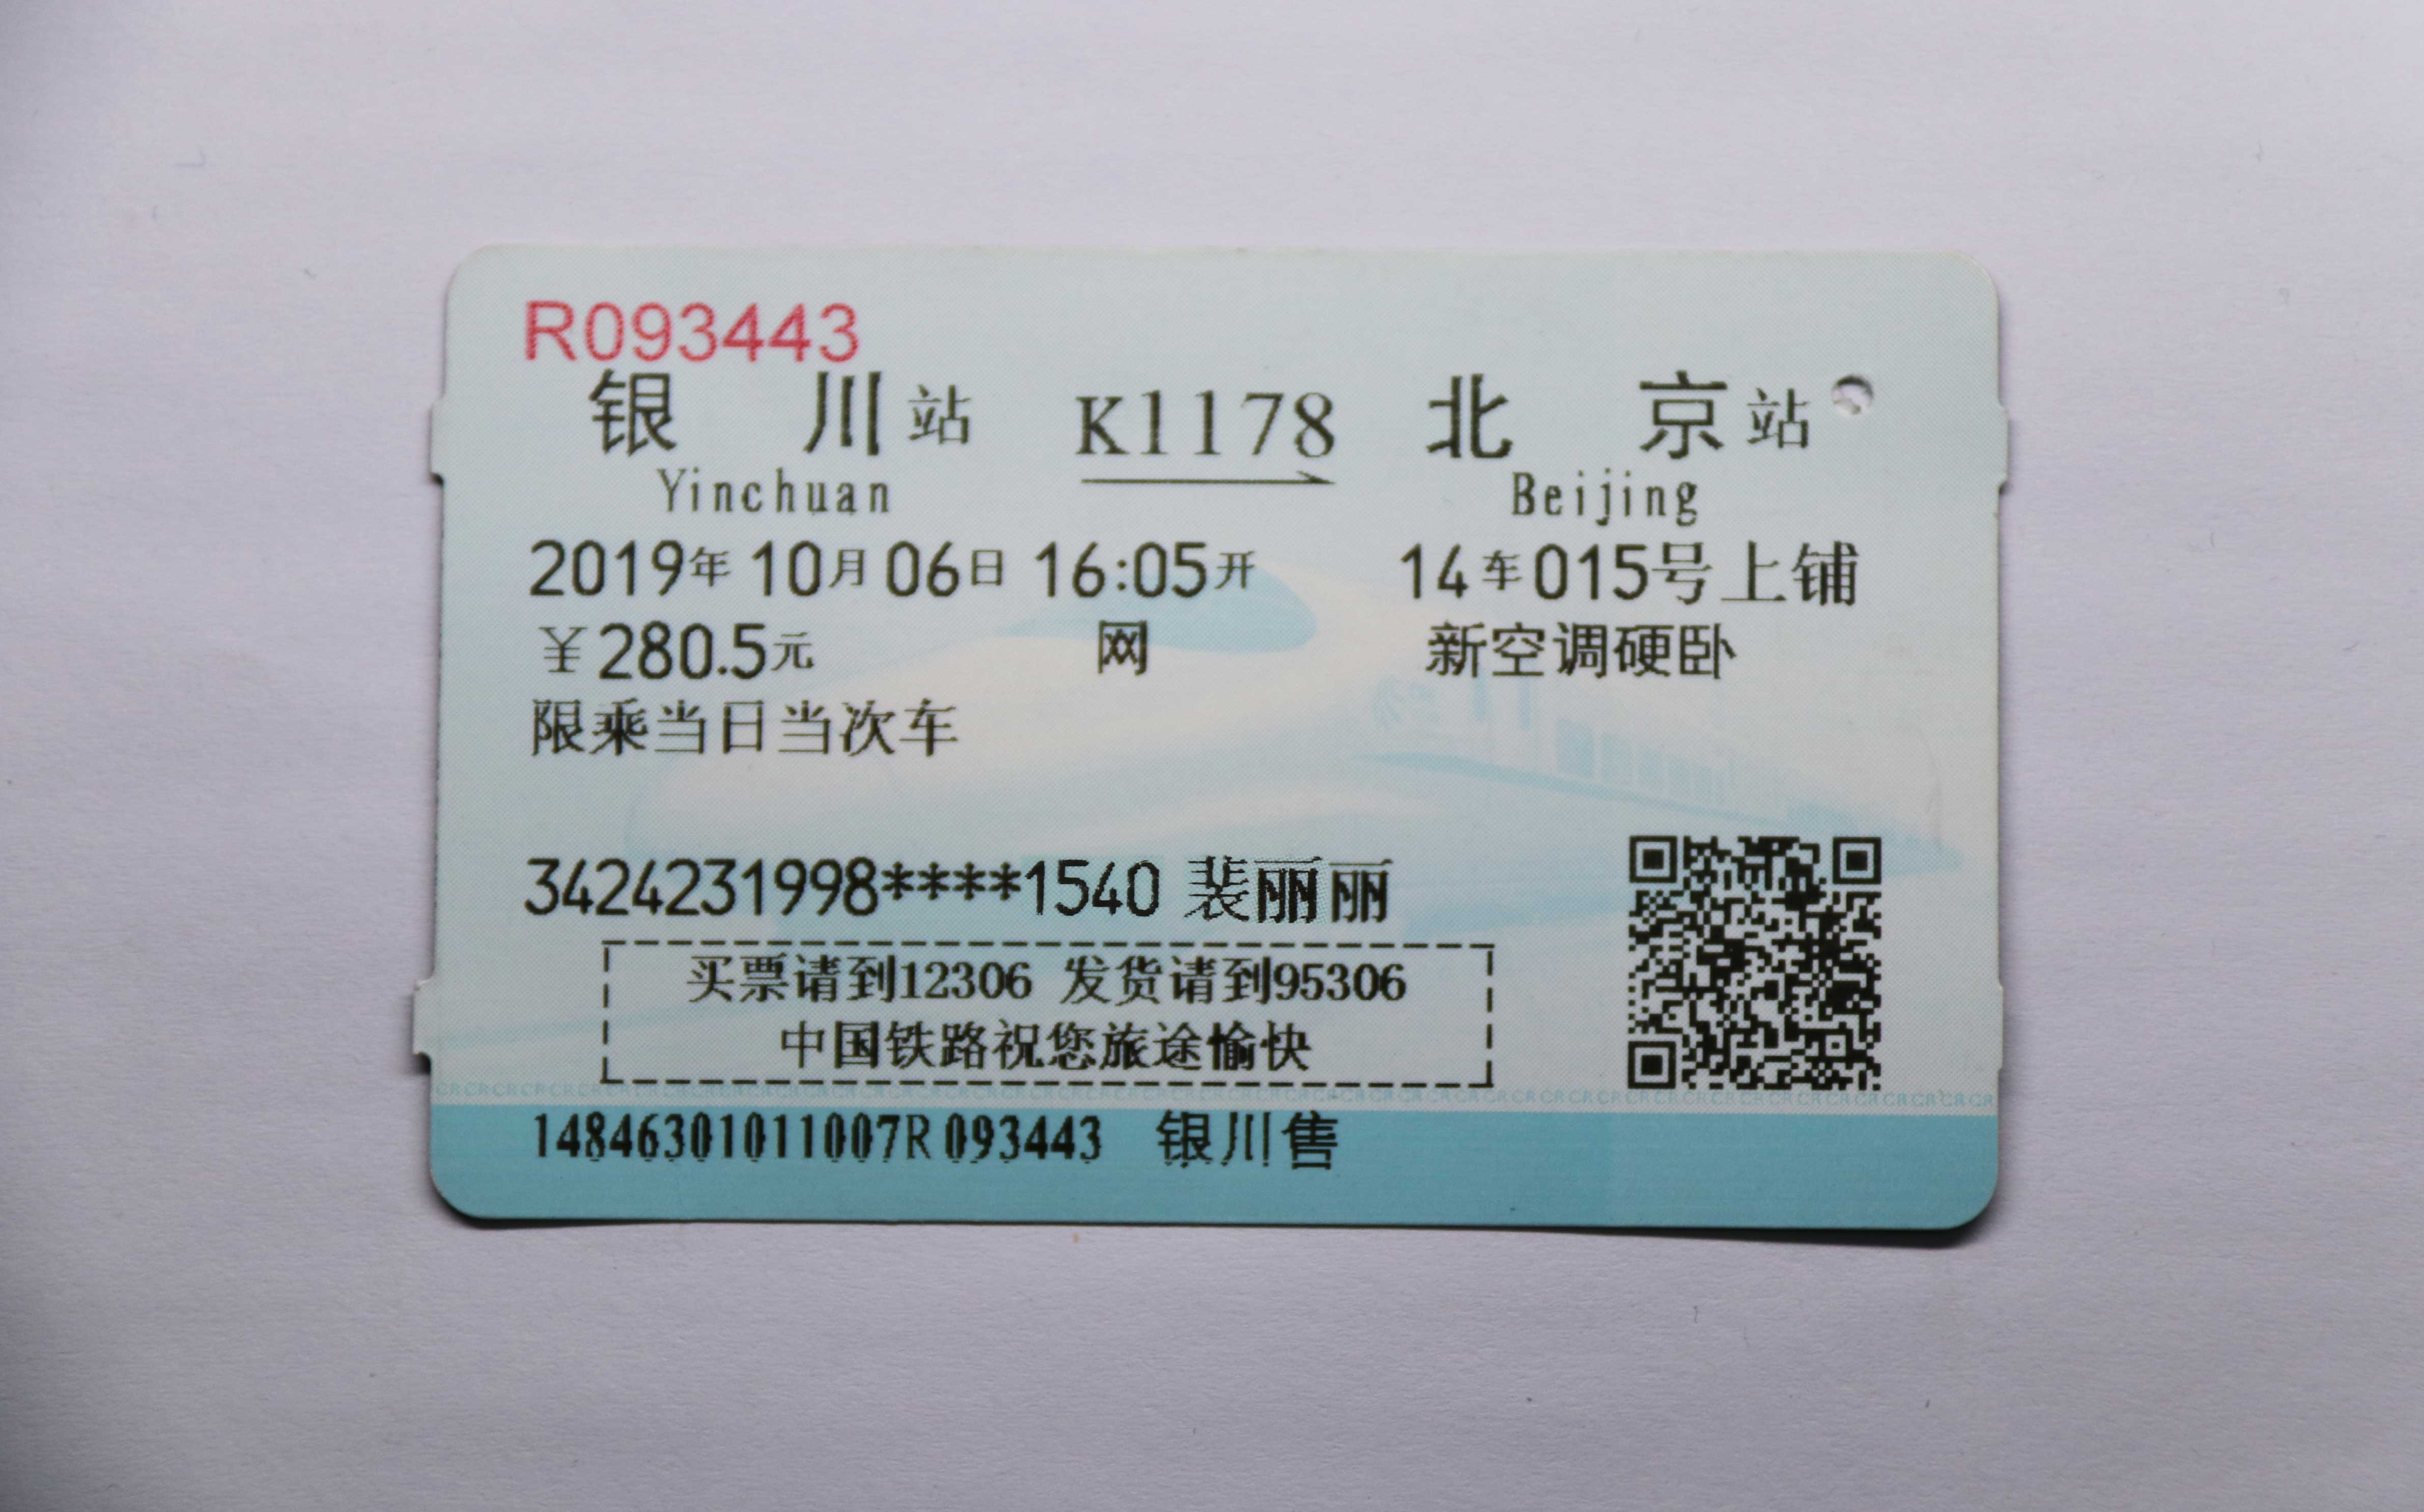GT: (390, 214, 2018, 1280)
